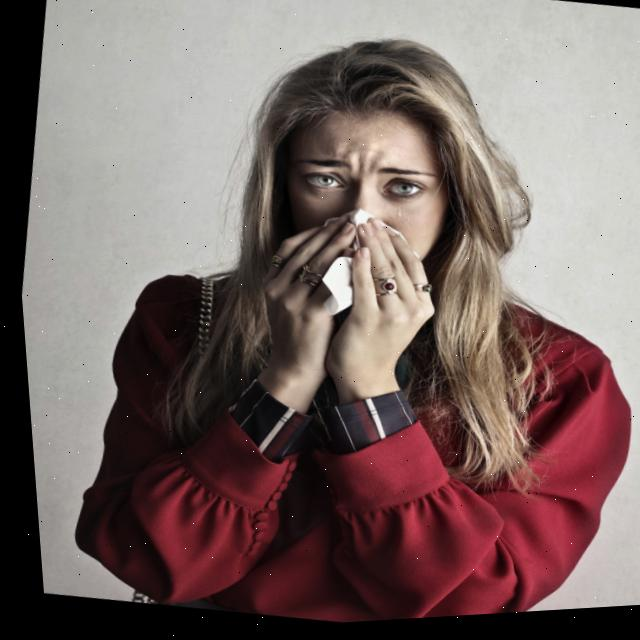sad: (252, 95, 465, 300)
